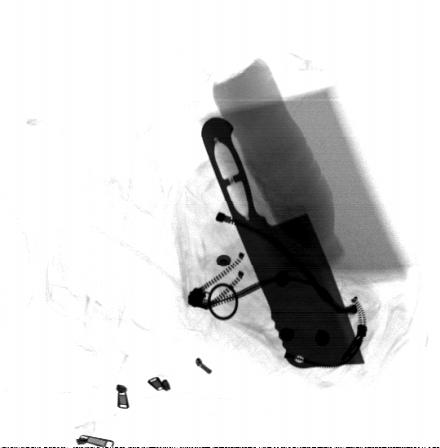Knife: (200, 116, 366, 369)
